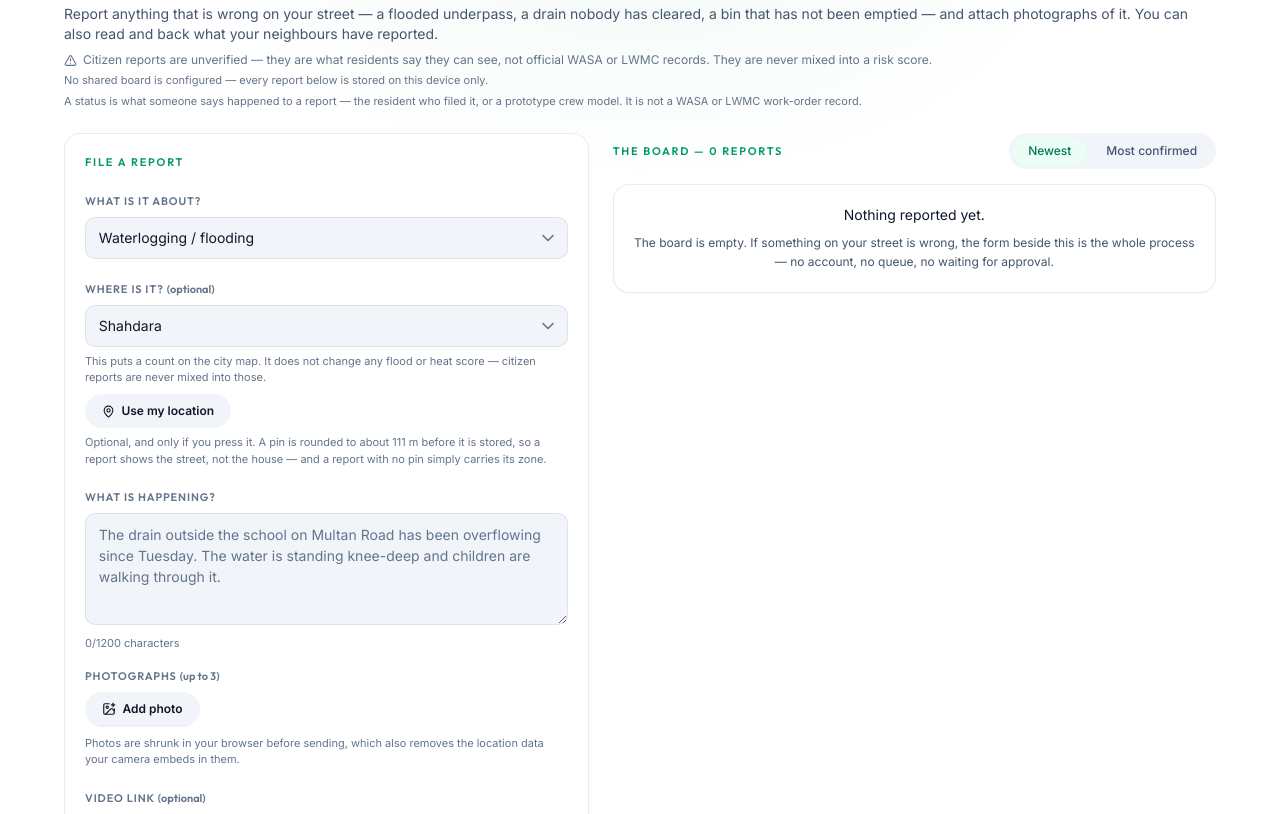
ComplaintsView — filing a report › refuses a report too short for anyone to act on
Replace the text in the text box labelled "What is happening?" with "bad" at [326, 569], box [85,513,568,625]
(page scrolled)
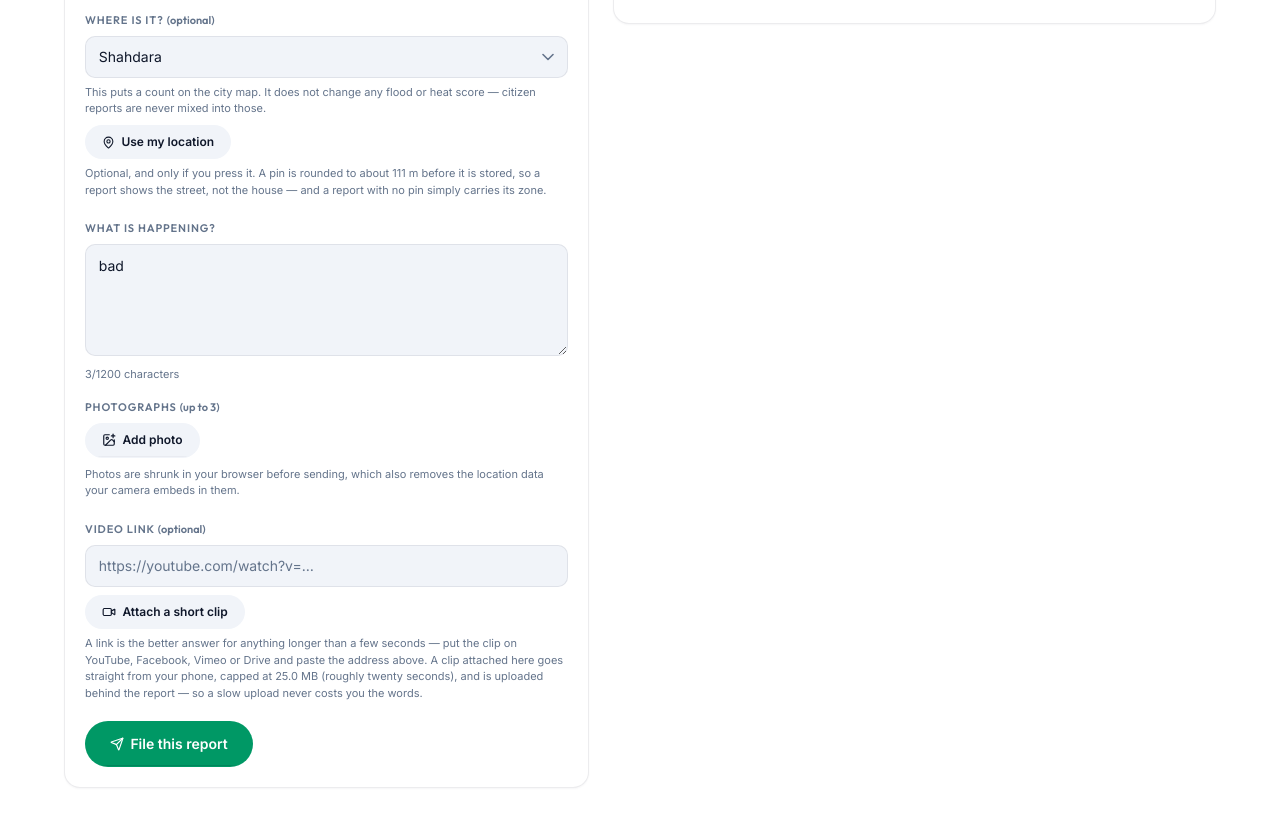
Click the button "File this report" at [169, 744], box [85,721,253,767]
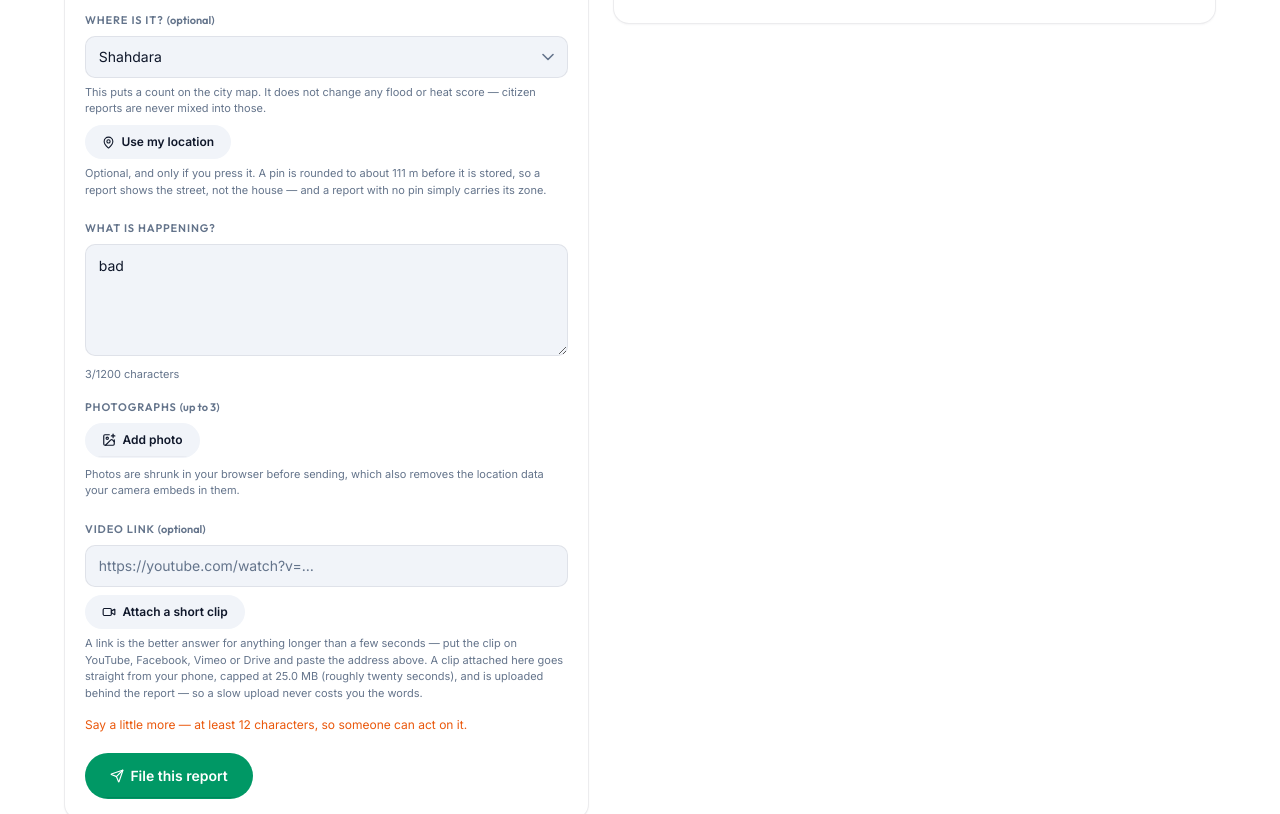
expect the message shows "at least 12 characters": met, box [85,717,467,732]
